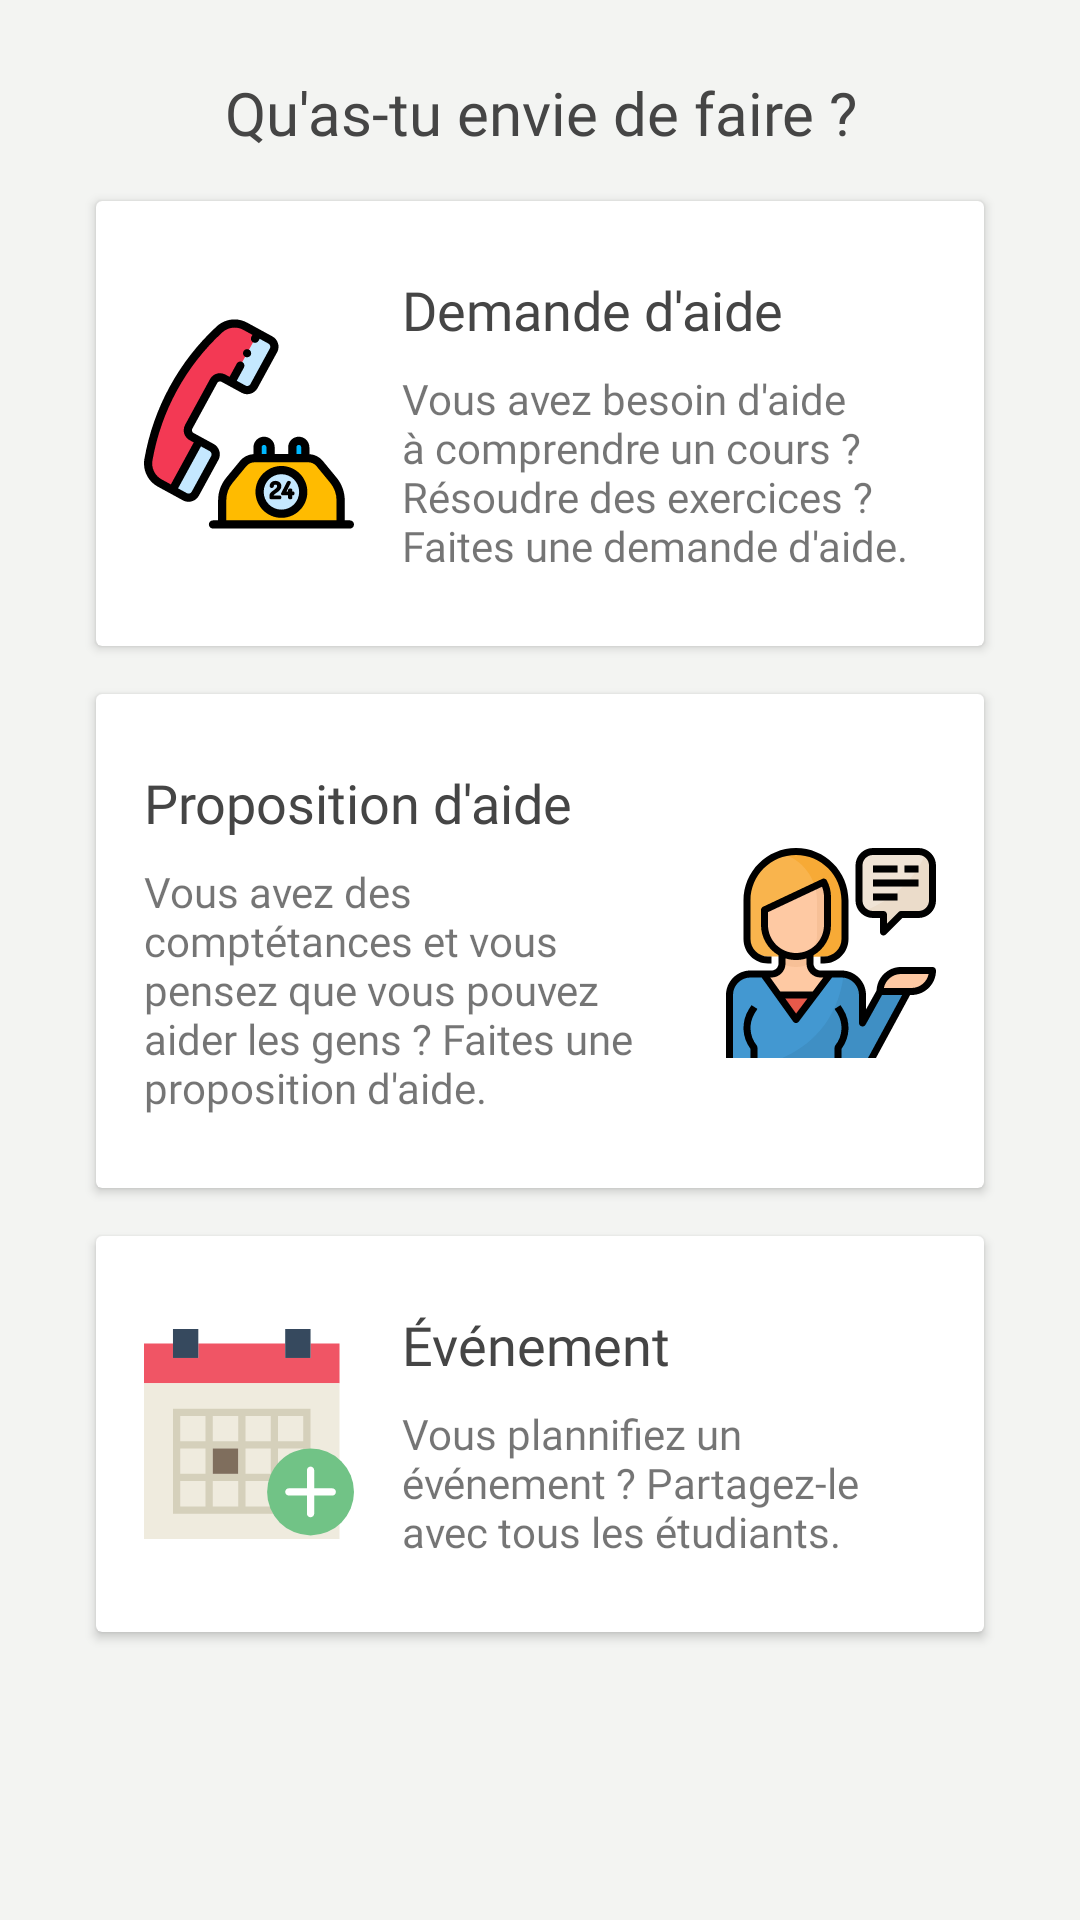

Where to tap for icons on this 1080 x 1920 app screen, as [x,y]:
evenement: [249,1434]
